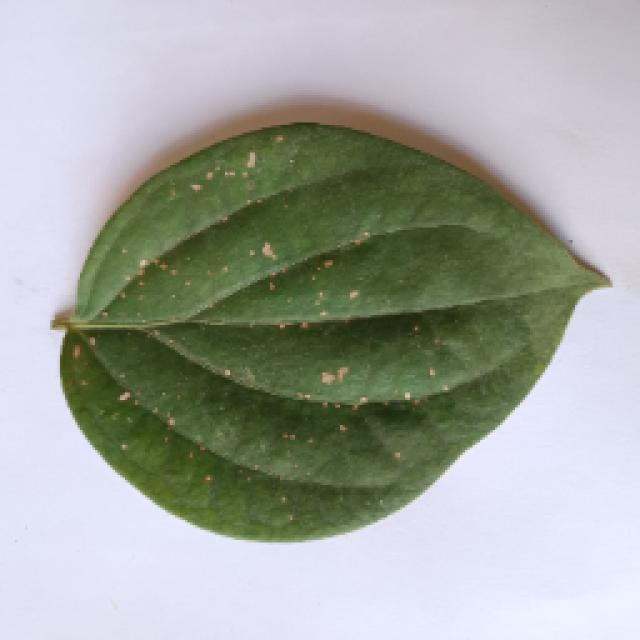pollu-disease: (50, 122, 608, 542)
